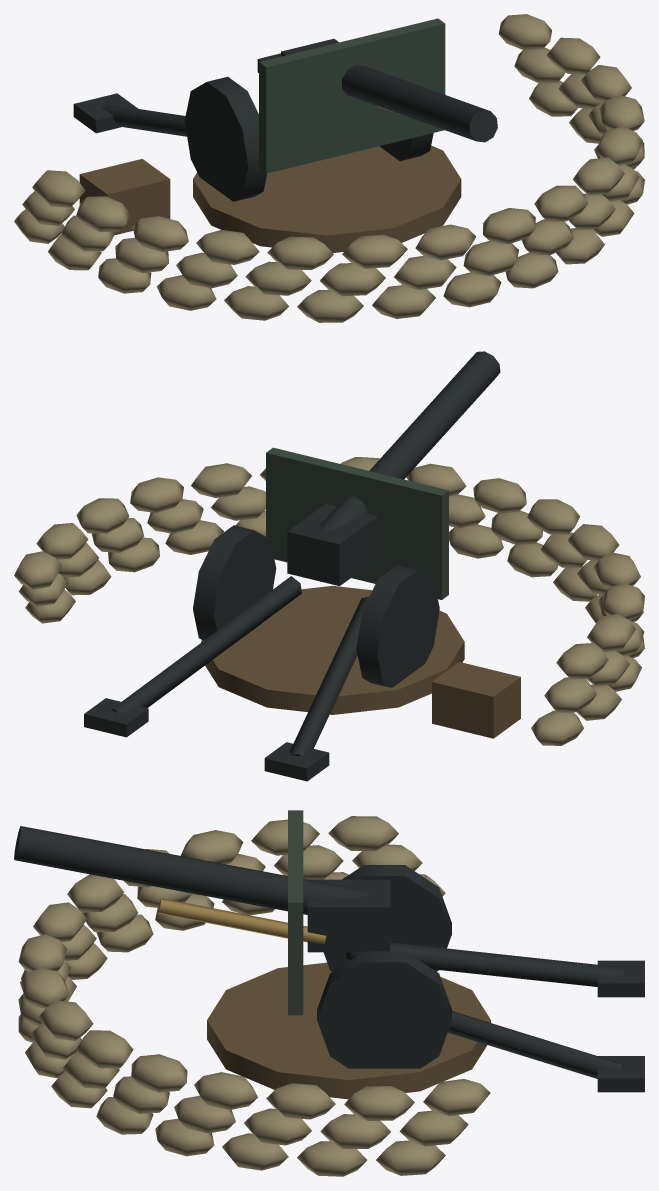
Rendered from artillery.glb.
3 views of the same model, one above another, from view 1: azimuth 30°, elevation 25°; view 2: azimuth 150°, elevation 25°; view 3: azimuth 270°, elevation 25° (orthographic). The views are drawn at different scales.
Visible parts, largest first — view 1: body; view 2: body; view 3: body.
Boxes of the visible parts, x1,y1,x2,y2 form: body: (14, 14, 644, 322); body: (14, 351, 644, 781); body: (14, 810, 644, 1176).
Bounding box in the file's own units: 5.79 × 1.98 × 5.33.
